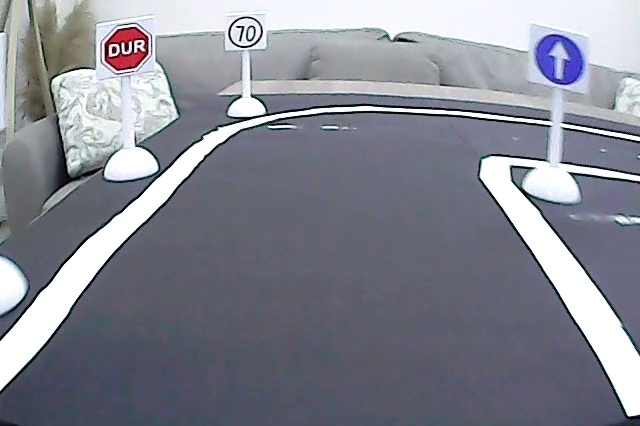speed limit 70: (227, 14, 265, 49)
stop sign: (101, 22, 154, 75)
